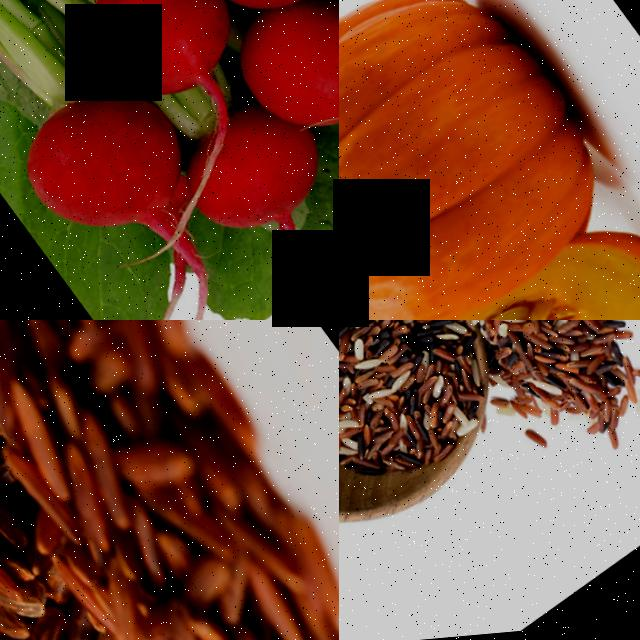pumpkin: (339, 0, 640, 320), (432, 210, 640, 320)
radishes: (0, 0, 339, 320)
red rice: (0, 320, 339, 640), (339, 320, 640, 495), (0, 333, 138, 640), (339, 320, 493, 515)
